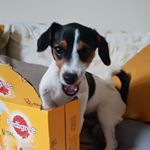puppy: (33, 18, 136, 150)
